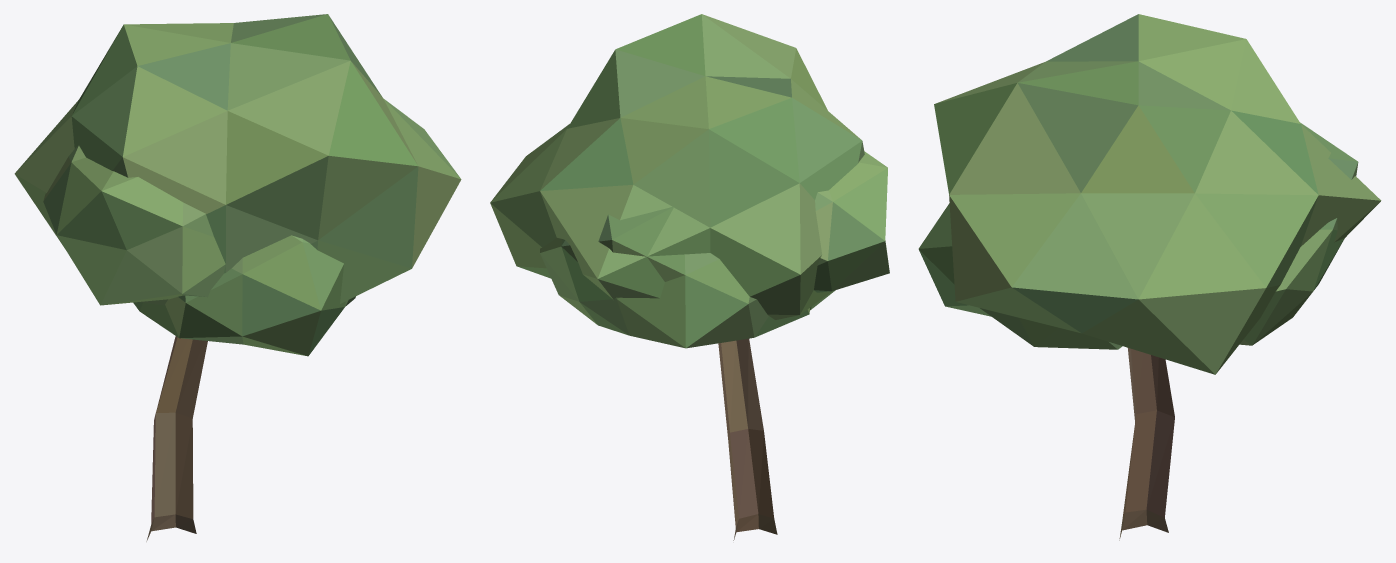
The model's file is Tree_Broadleaf_04.glb.
3 renders of one model, left to right at view 1: azimuth 30°, elevation 25°; view 2: azimuth 150°, elevation 25°; view 3: azimuth 270°, elevation 25°, orthographic. The views are drawn at different scales.
Visible parts, largest first — view 1: Tree_Broadleaf_04; view 2: Tree_Broadleaf_04; view 3: Tree_Broadleaf_04.
Boxes of the visible parts, x1,y1,x2,y2 form: Tree_Broadleaf_04: [14, 14, 461, 541]; Tree_Broadleaf_04: [490, 14, 889, 540]; Tree_Broadleaf_04: [918, 14, 1381, 540].
Bounding box in the file's own units: 7.28 × 9.08 × 7.4.
